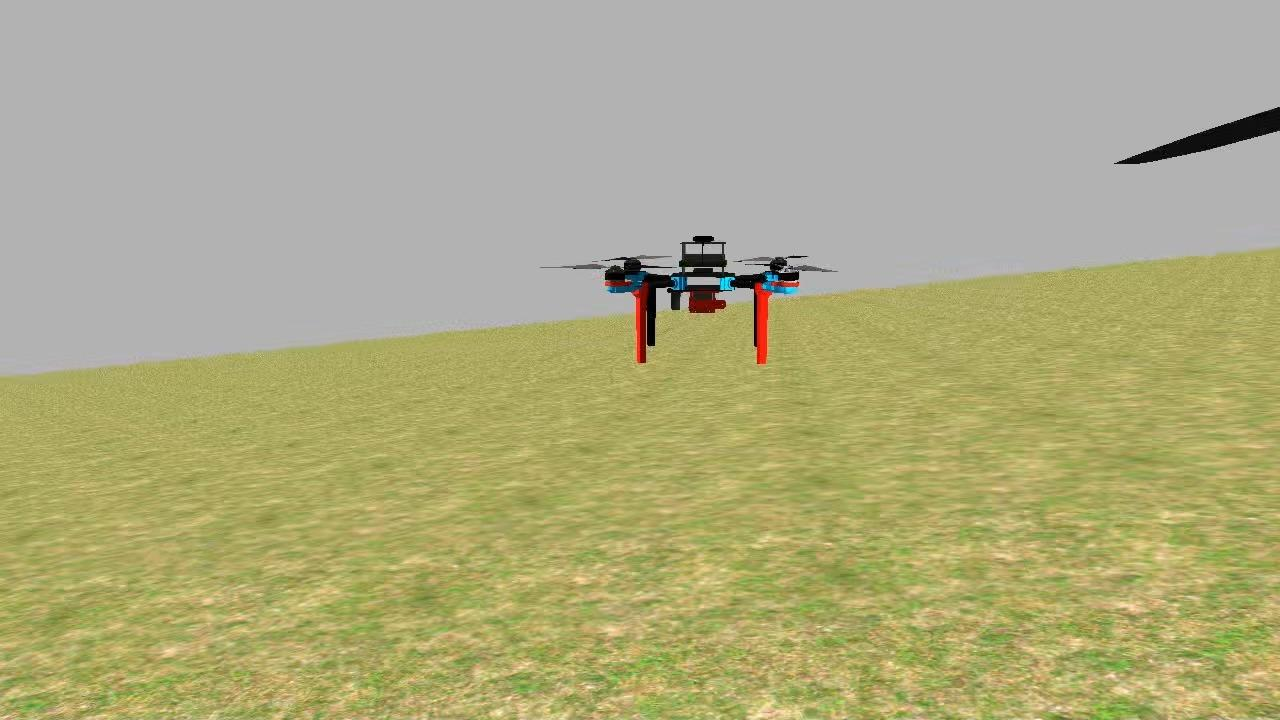UAV: (598, 223, 806, 369)
